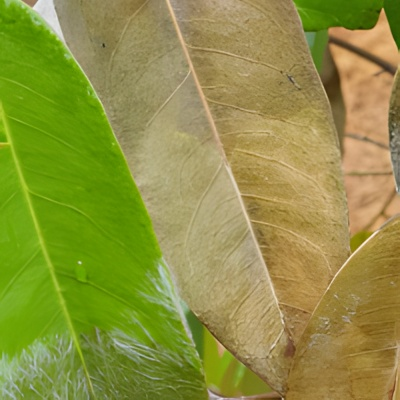Leaf_Rhizoctonia: (0, 0, 215, 400)
